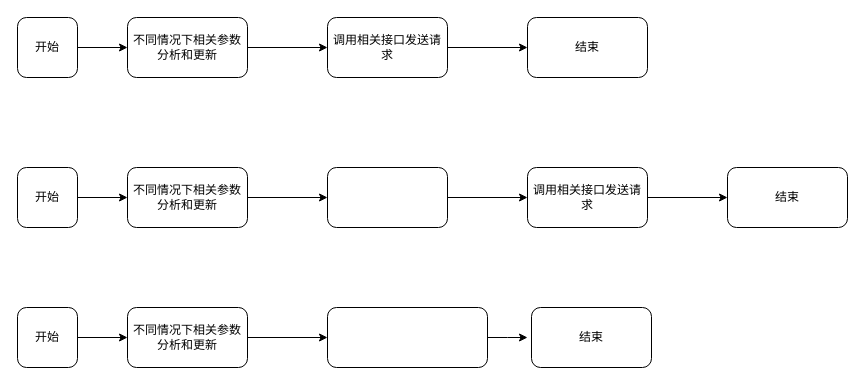
Some shapes in this 865 by 385 pixel diagram are drawn without their labels. Here are the shapes that lost their labels. From the top down, the centre of each, then its label:
At point 387,197: "根据所属医院或者机构的基础设置的公钥生成不同类型的pdf版本".
At point 407,337: "根据所属医院或者机构的基础设置的公钥调用相关接口发送请求".
